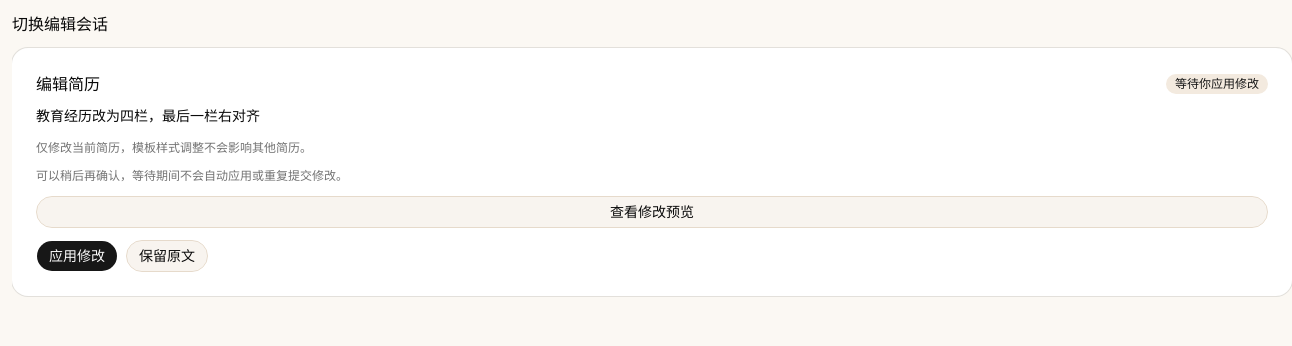
Test: editor request decisions › never applies an approval response from before a pause even after activities resume
Click the button "应用修改" at (77, 256), box [36,240,118,272]
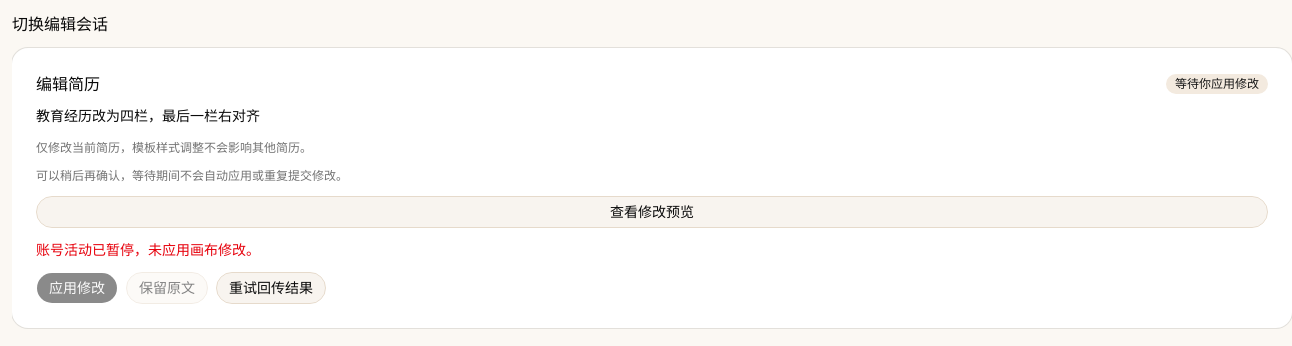
Expected: the message shows "账号活动已暂停", [36,241,260,258]
